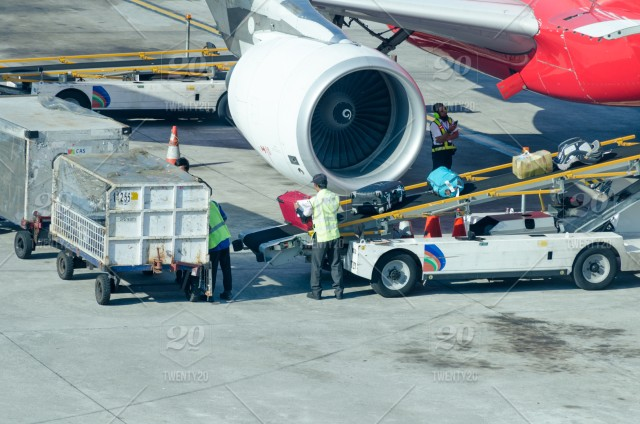baggageTruck: (241, 130, 640, 293)
